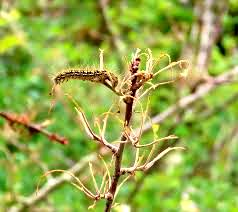Caterpillar: (52, 66, 123, 90)
